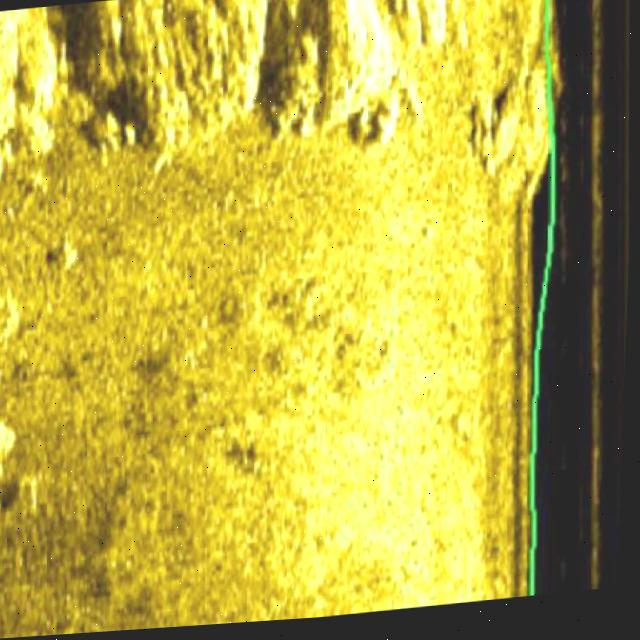bedrock group: (0, 0, 475, 190)
